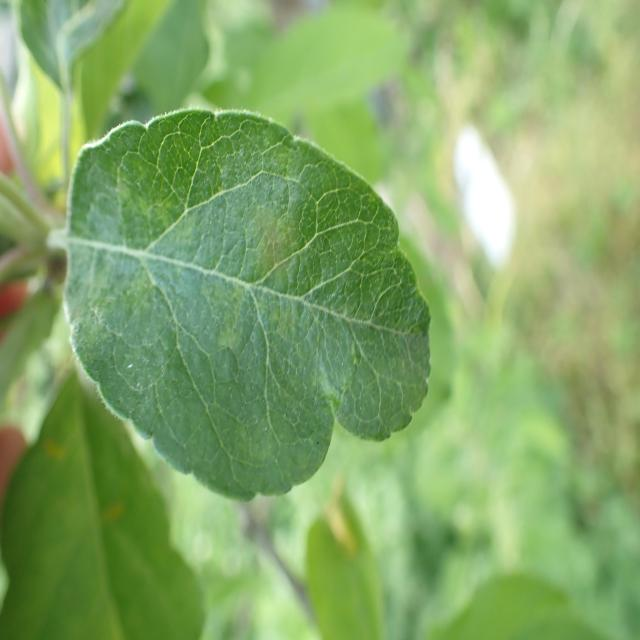scab: (56, 163, 430, 446)
